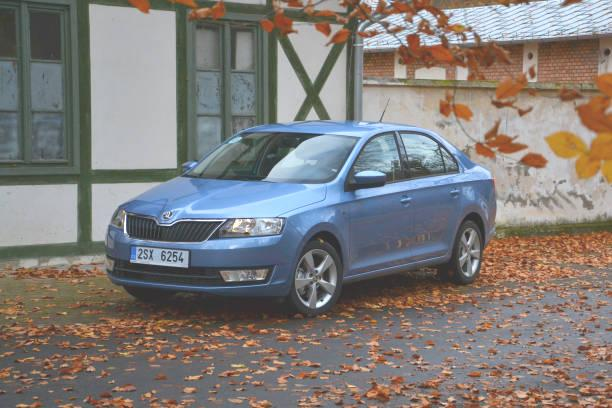skoda: (158, 207, 180, 222)
